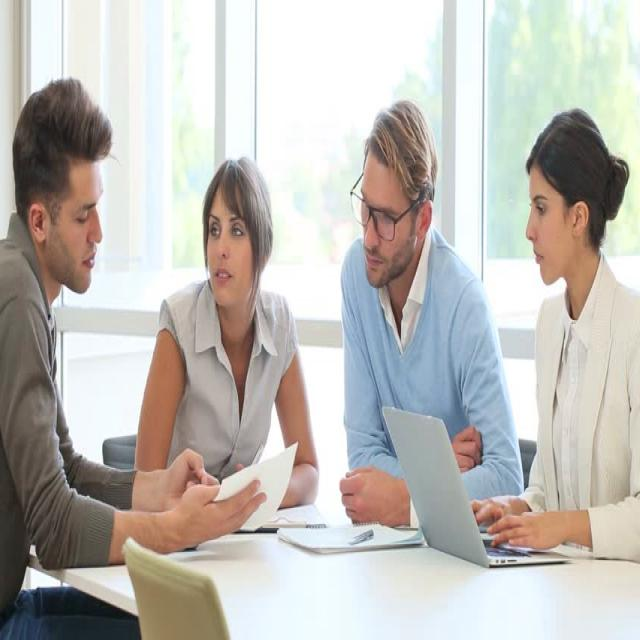adult: (0, 79, 266, 584), (338, 101, 525, 527), (467, 104, 638, 560), (132, 157, 318, 513)
